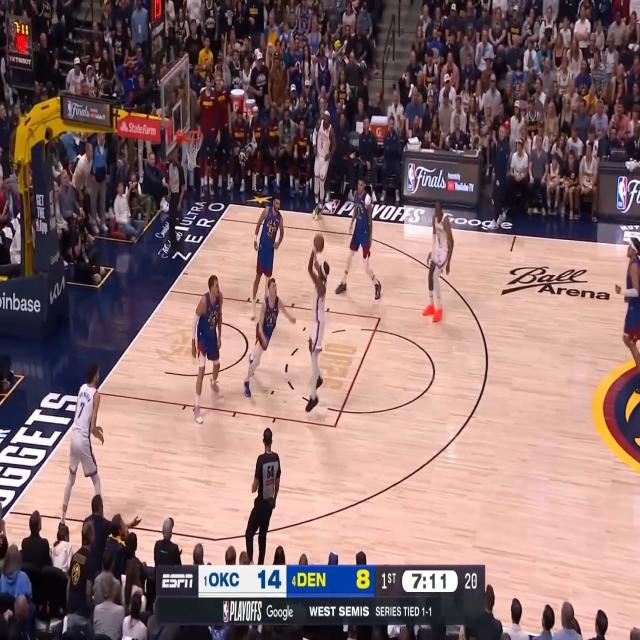ball: (314, 232, 324, 252)
number: (311, 108, 336, 219), (77, 401, 85, 419), (268, 224, 275, 235), (211, 316, 216, 326), (320, 140, 324, 150), (269, 317, 273, 324), (358, 206, 360, 216)
player: (58, 363, 104, 533), (245, 276, 298, 398), (336, 175, 382, 300), (190, 274, 223, 423), (250, 194, 284, 321), (421, 198, 455, 323), (614, 236, 640, 397)
player-jump-shot: (305, 245, 331, 414)
referee: (245, 427, 281, 563), (166, 151, 186, 255)
rim: (183, 130, 203, 141)
